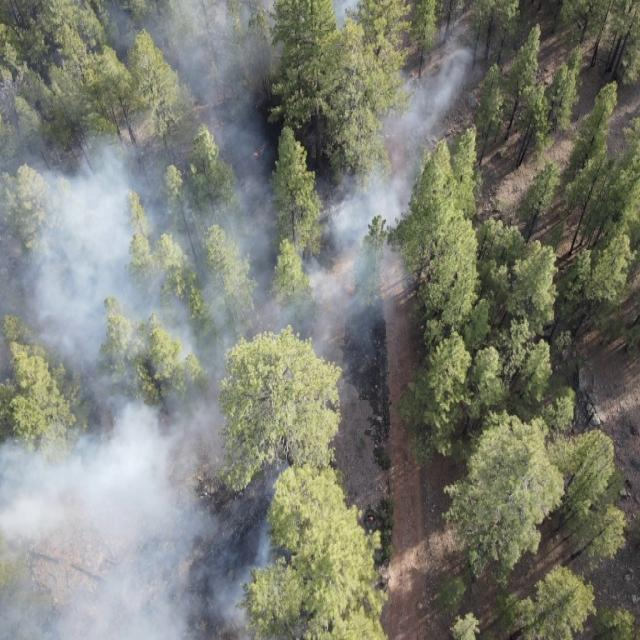fire: (250, 149, 260, 162), (368, 513, 376, 523)
smoke: (0, 0, 482, 299), (0, 299, 394, 640)
